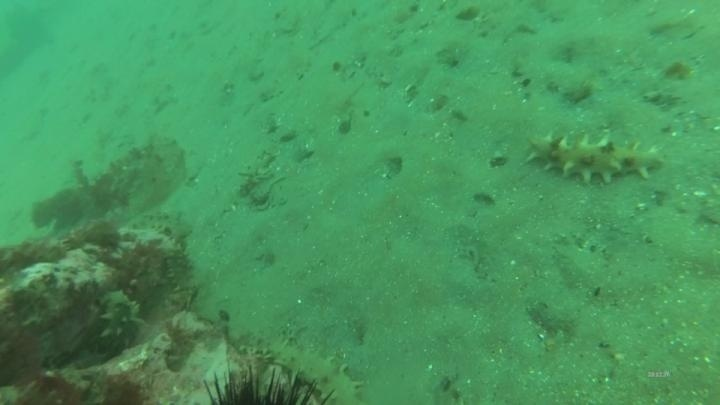echinus: (190, 357, 319, 404)
holothurian: (522, 127, 666, 188), (259, 328, 367, 405), (93, 284, 144, 355), (116, 207, 194, 247), (160, 242, 200, 313)
